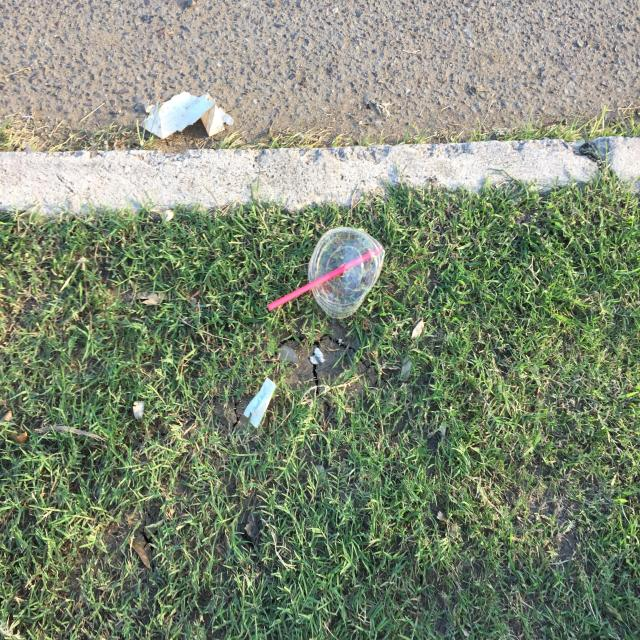litter: (255, 240, 395, 332)
